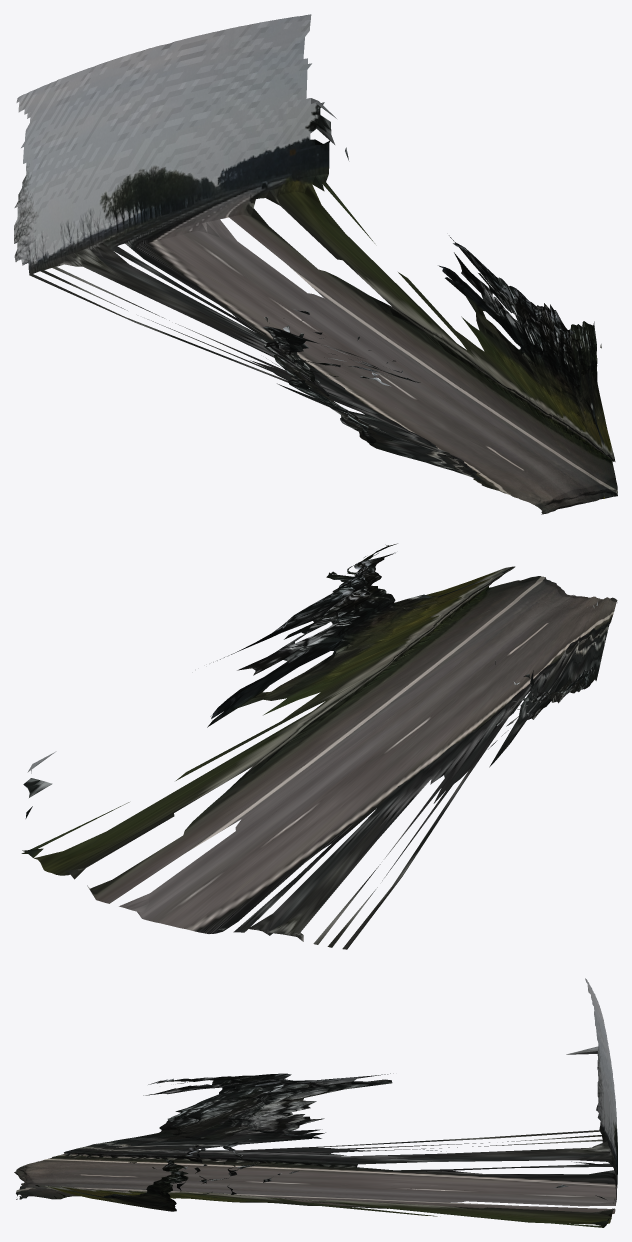
3 renders of one model, top to bottom at view 1: azimuth 30°, elevation 25°; view 2: azimuth 150°, elevation 25°; view 3: azimuth 270°, elevation 25°, orthographic. The views are drawn at different scales.
Parts seen in each view (by area): view 1: defaultobject; view 2: defaultobject; view 3: defaultobject.
Part boxes in pixels (x1,y1,x2,y2): defaultobject: [14, 14, 617, 514]; defaultobject: [21, 543, 617, 949]; defaultobject: [14, 978, 617, 1227].
Bounding box in the file's own units: 21.14 × 12.47 × 44.5.
1 material, 1 textured.
